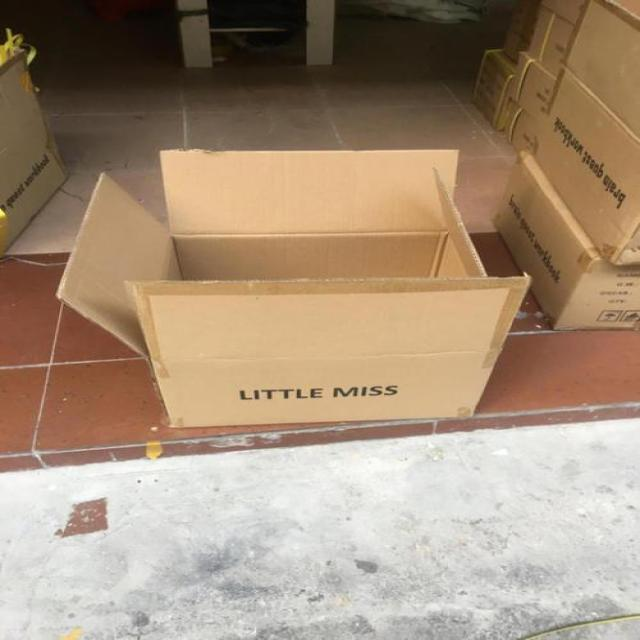cardboard: (56, 137, 522, 425), (502, 8, 640, 330)
